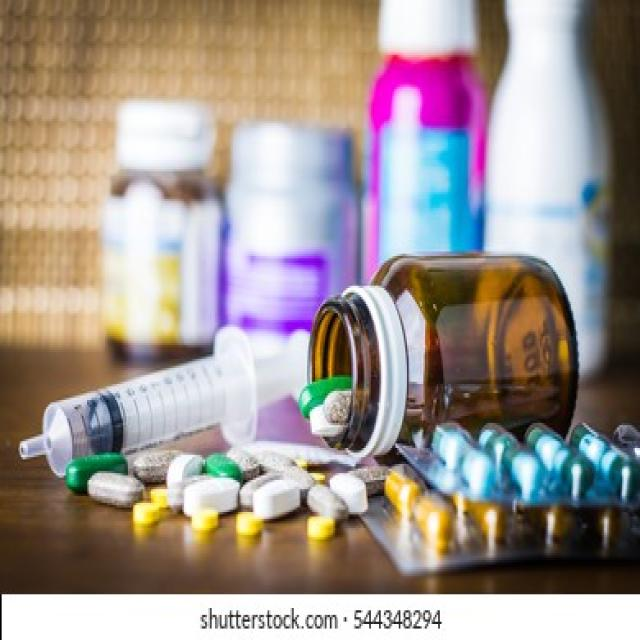B3: (2, 309, 344, 482), (98, 78, 230, 370), (395, 416, 640, 514)
